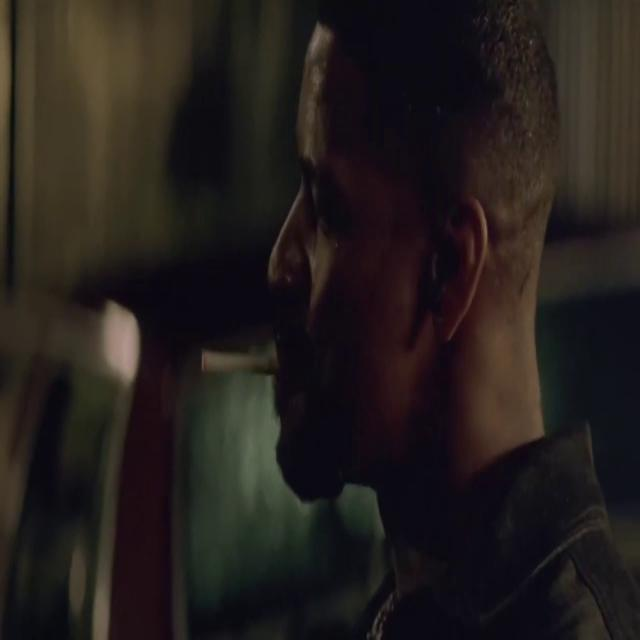Smooking: (193, 332, 278, 393)
